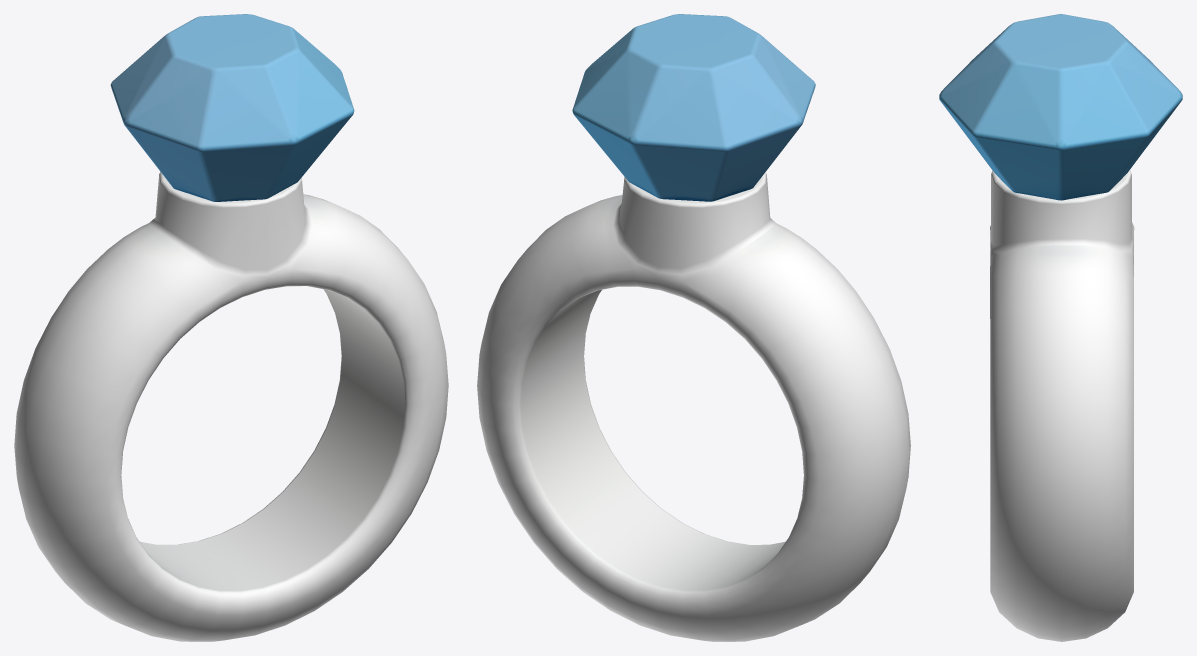
The model's file is Ring Emoji.glb.
3 views of the same model, side by side, from view 1: azimuth 30°, elevation 25°; view 2: azimuth 150°, elevation 25°; view 3: azimuth 270°, elevation 25° (orthographic). The views are drawn at different scales.
Parts seen in each view (by area): view 1: Ring; view 2: Ring; view 3: Ring.
Boxes of the visible parts, x1,y1,x2,y2 form: Ring: (14, 14, 448, 641); Ring: (477, 14, 910, 641); Ring: (939, 14, 1182, 641).
Bounding box in the file's own units: 7.63 × 10.45 × 3.98.
1 material, 1 textured.
